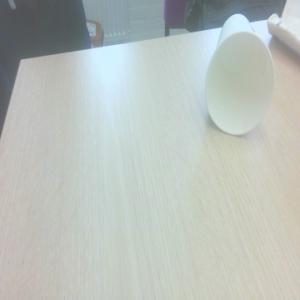Cup: (206, 14, 277, 137)
